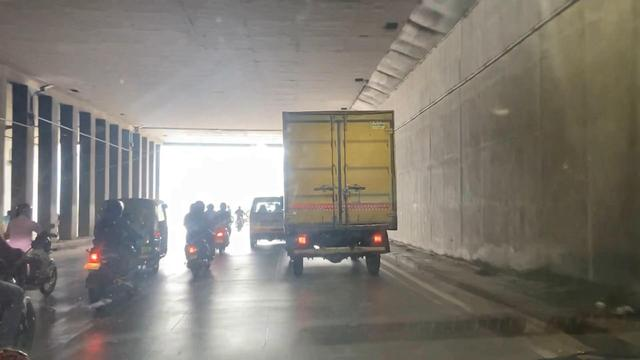HMV: (280, 111, 397, 269)
LMV: (90, 202, 137, 302), (187, 200, 222, 281), (250, 194, 285, 250)
